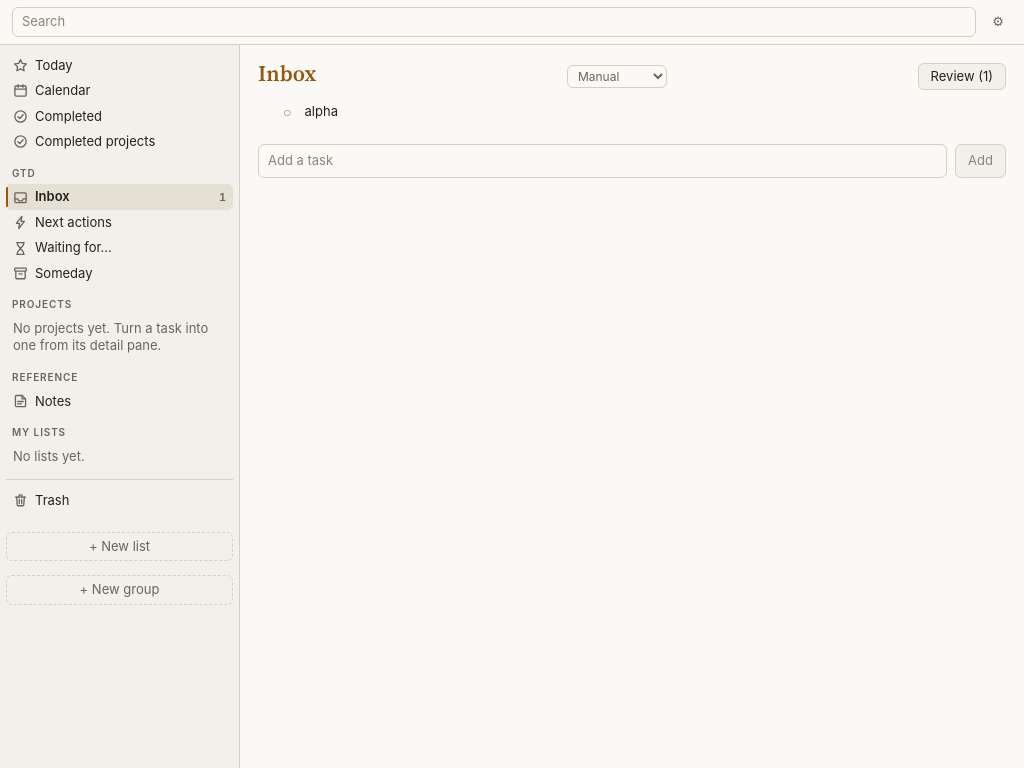
it: The Review sheet › backReturnsFromADeadlineStepToNextActionsNotTheRoot
Step 1. Click the button "Review (1)" → click(962, 76), box [918, 62, 1006, 90]
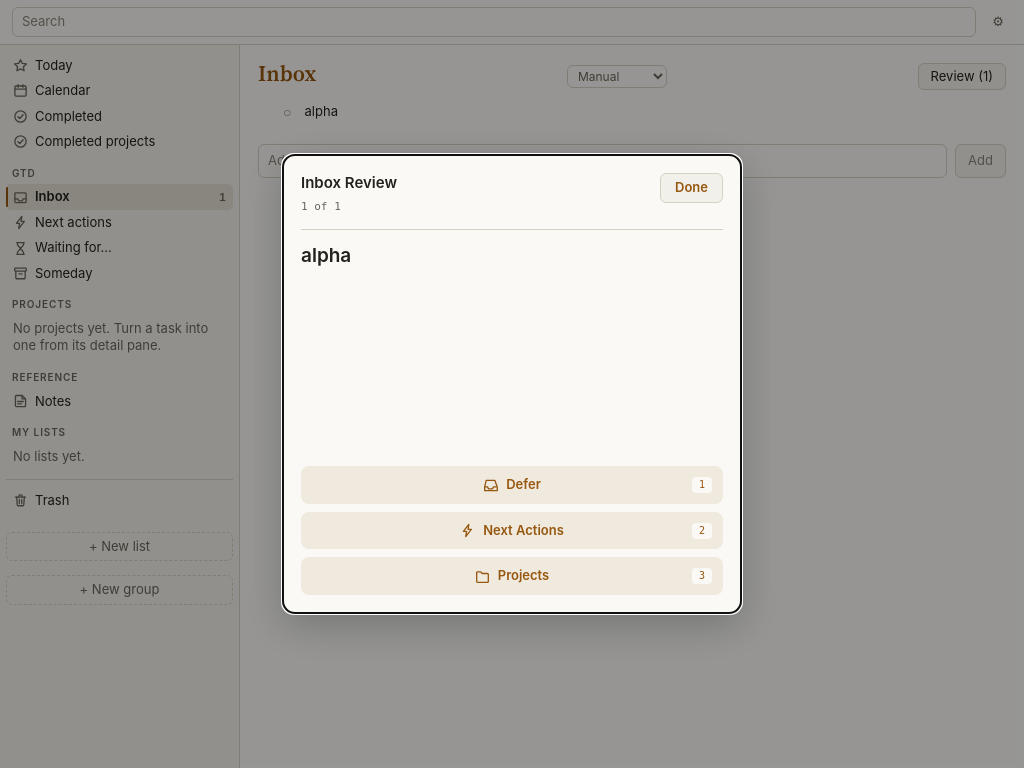
Step 2. Type keys "2"
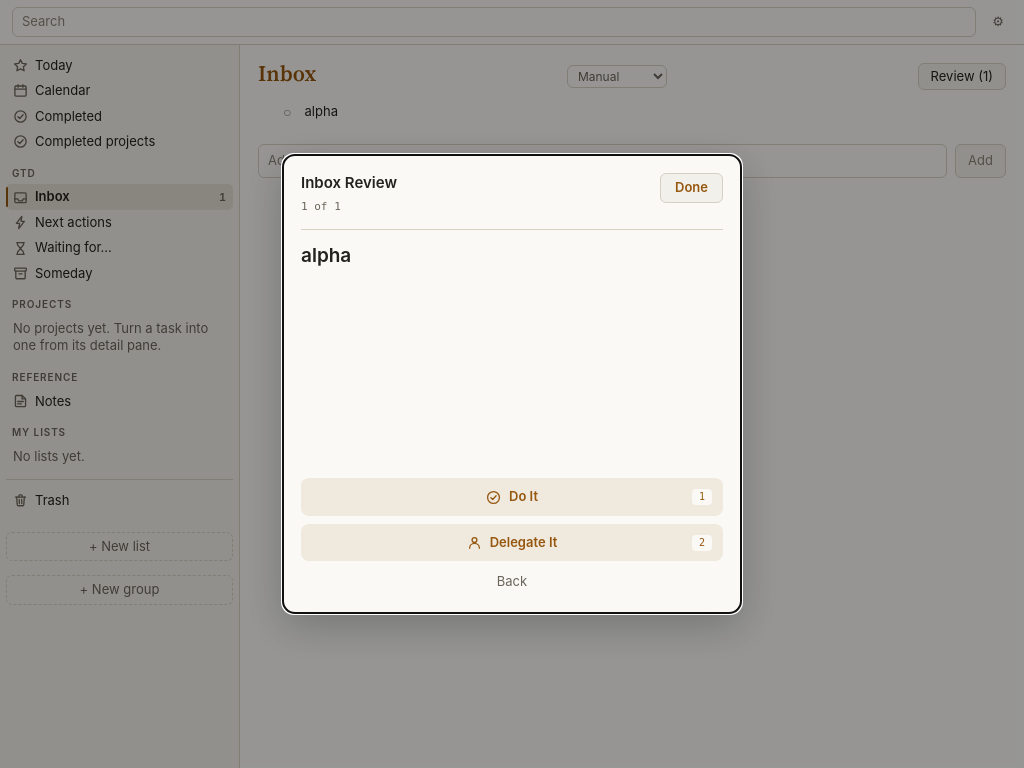
Step 3. Type keys "1"
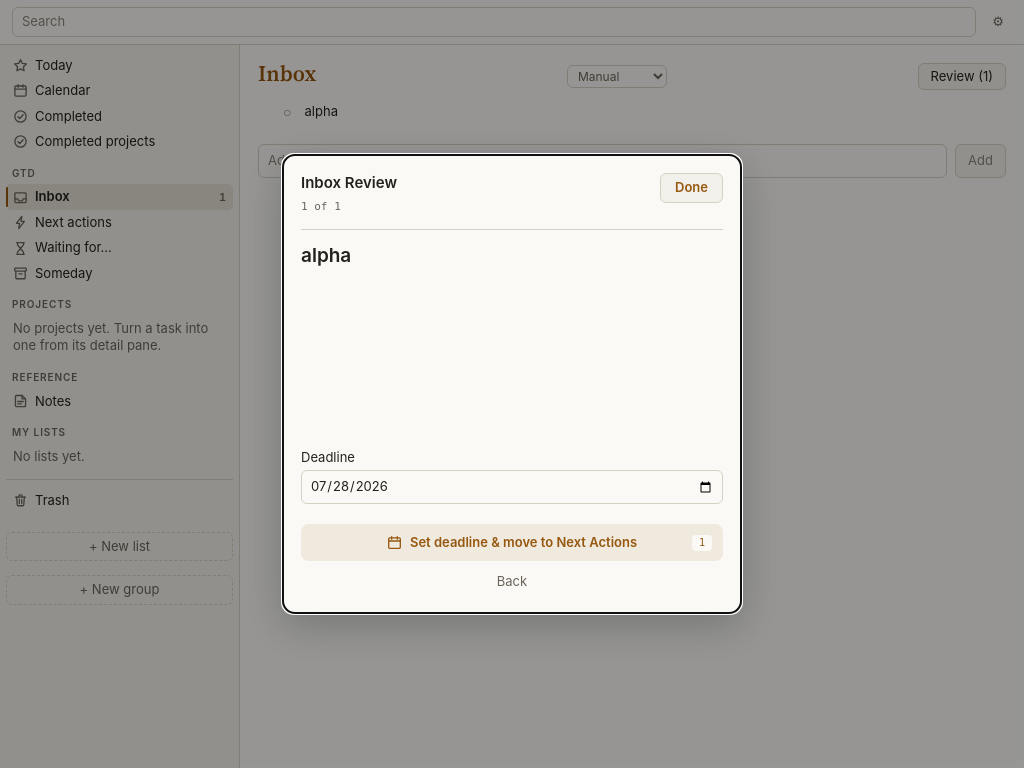
Step 4. Click the button "Back" → click(512, 582), box [301, 570, 723, 595]
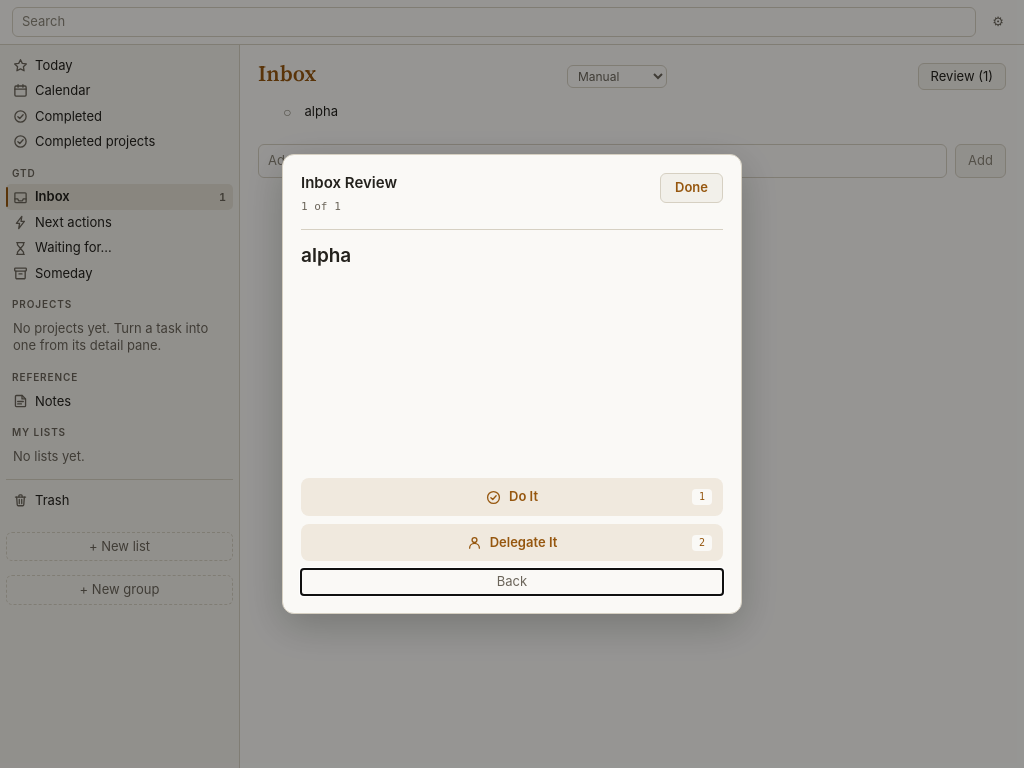
Expected: the button "Delegate It 2" is shown, [301, 524, 723, 561]
